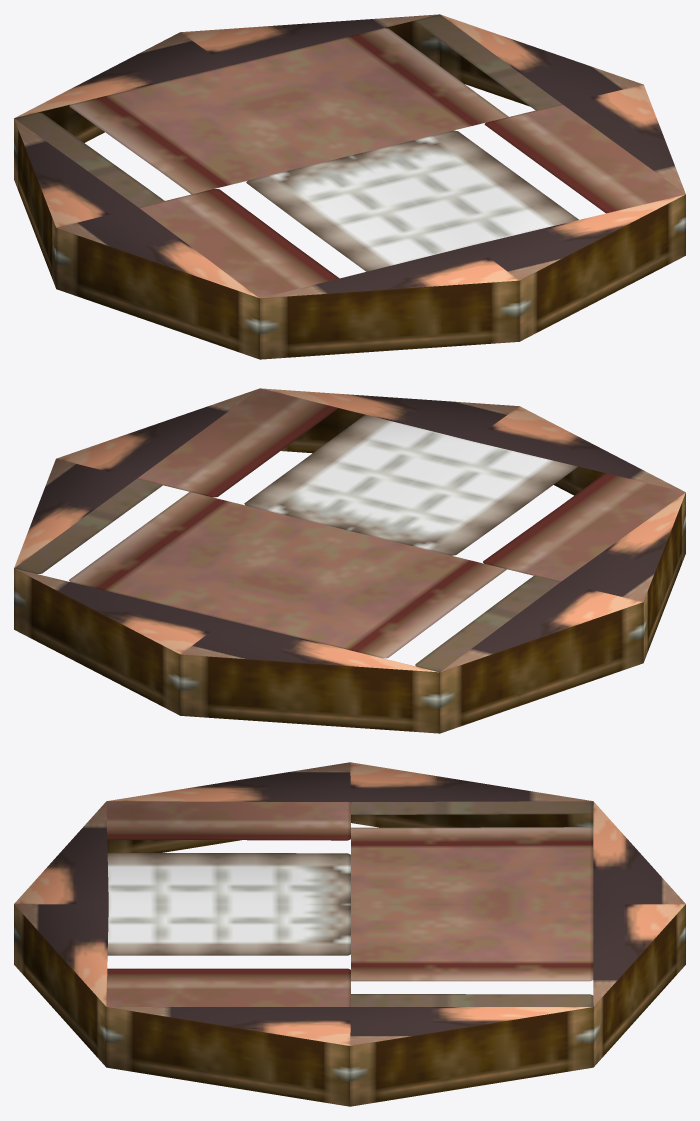
The picture shows the model from 3 angles, top to bottom: view 1: azimuth 30°, elevation 25°; view 2: azimuth 150°, elevation 25°; view 3: azimuth 270°, elevation 25°; orthographic projection.
Visible parts, largest first — view 1: T1L1M002_10; view 2: T1L1M002_10; view 3: T1L1M002_10.
Part boxes in pixels (left/top/right/bottom): T1L1M002_10: left=14, top=14, right=685, bottom=359; T1L1M002_10: left=14, top=388, right=685, bottom=733; T1L1M002_10: left=14, top=762, right=685, bottom=1106.
Bounding box in the file's own units: 2 × 0.1992 × 2.
